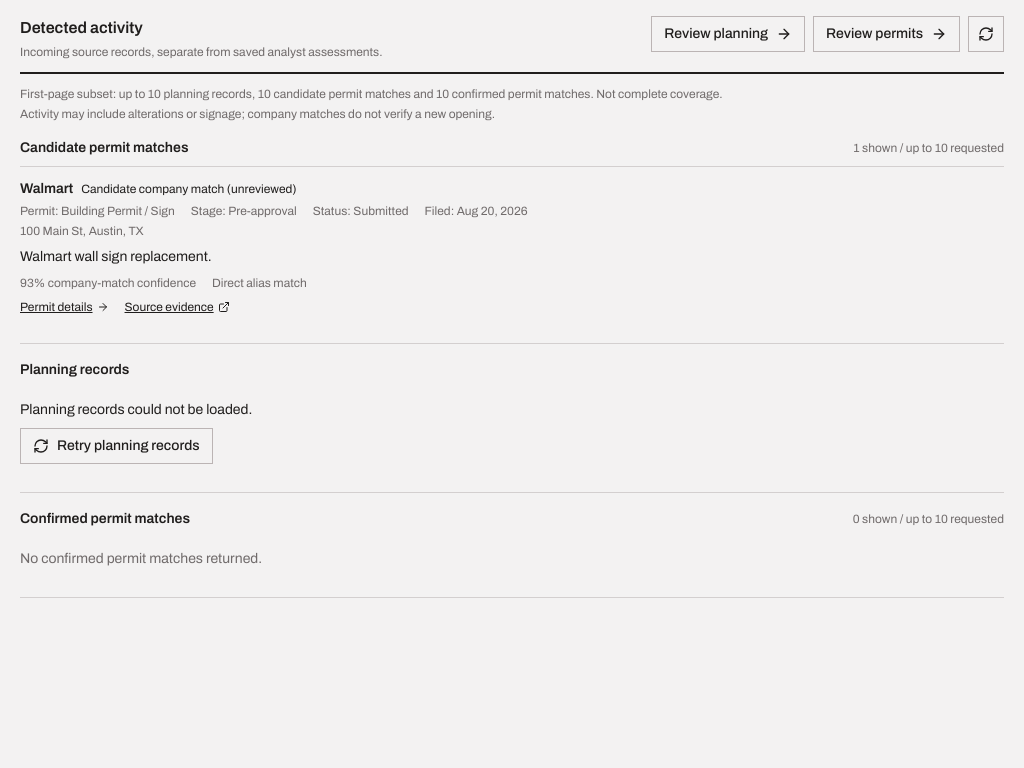
Detected activity › preserves loaded candidates when planning fails and retries only the failed query
Expected: the text "Planning records could not be loaded." is shown, [20,402,252,417]
Expected: the element named "Walmart permit match" is shown, [20,166,1004,327]
Click the button "Retry planning records". click: [116, 446]
box: [20,428,213,464]
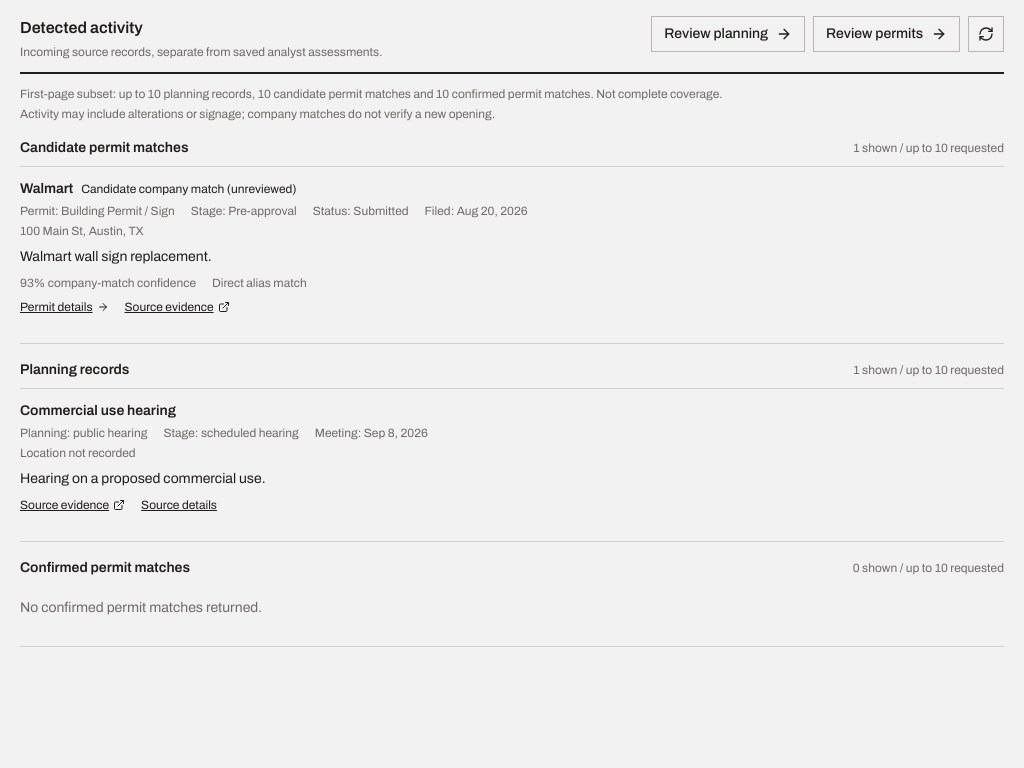
Now the element "Commercial use hearing" is shown, box [20,388,1004,525]
